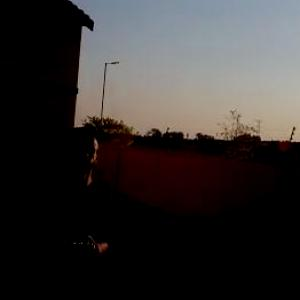follow: (27, 124, 130, 299)
